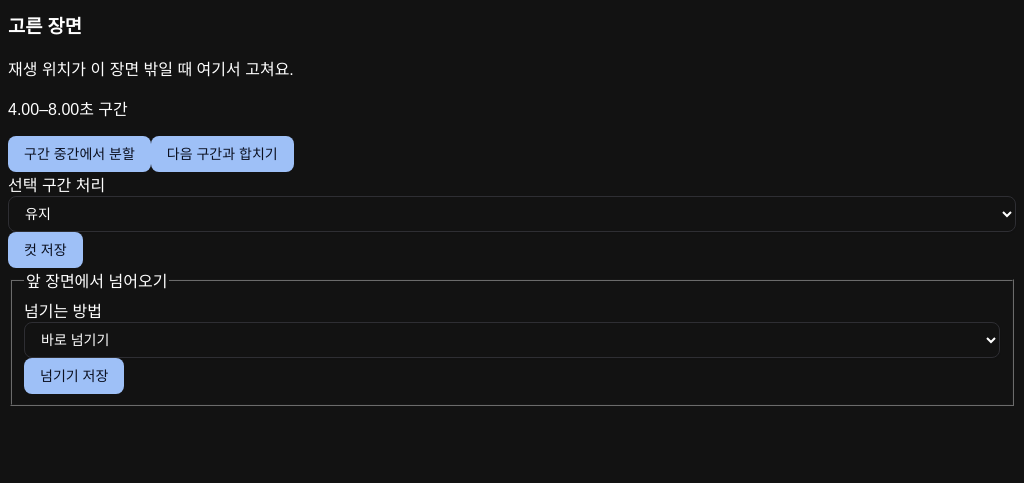
it: 장면 넘기기 고르기 › '바로 넘기기'일 때는 길이 칸 자체가 없다
expect the field labelled "전환 길이(초)" is not shown: met
Select "왼쪽으로 쓸어내기" in the dropdown labelled "넘기는 방법": [512, 340] box [24,322,1000,358]
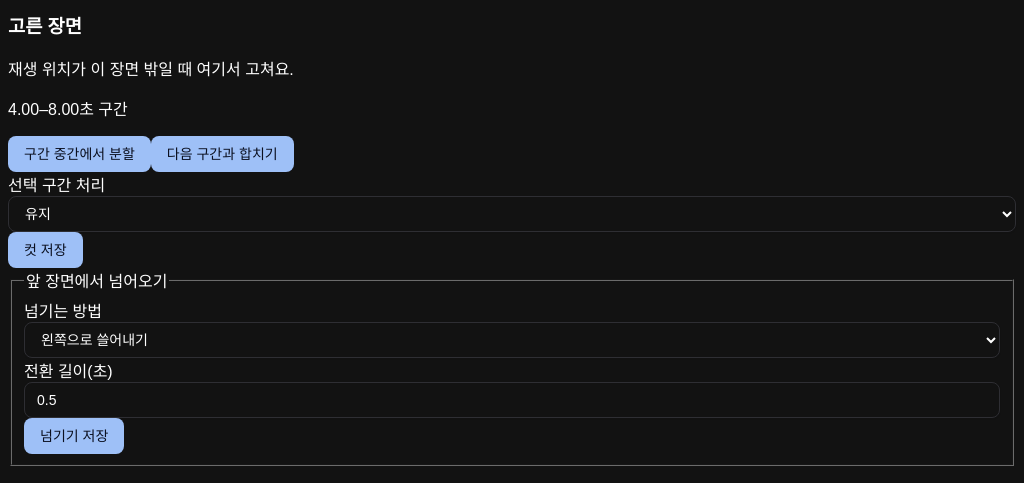
expect the number field labelled "전환 길이(초)" is shown: met, box [24,382,1000,418]
